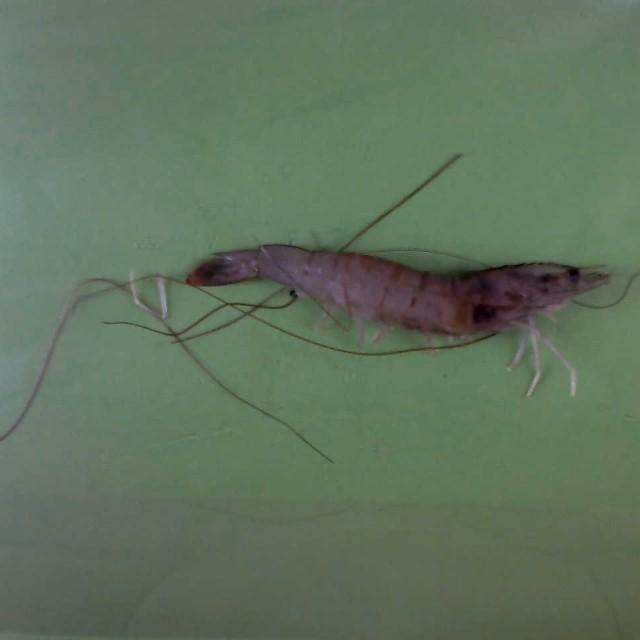shrimp: (187, 245, 610, 336)
